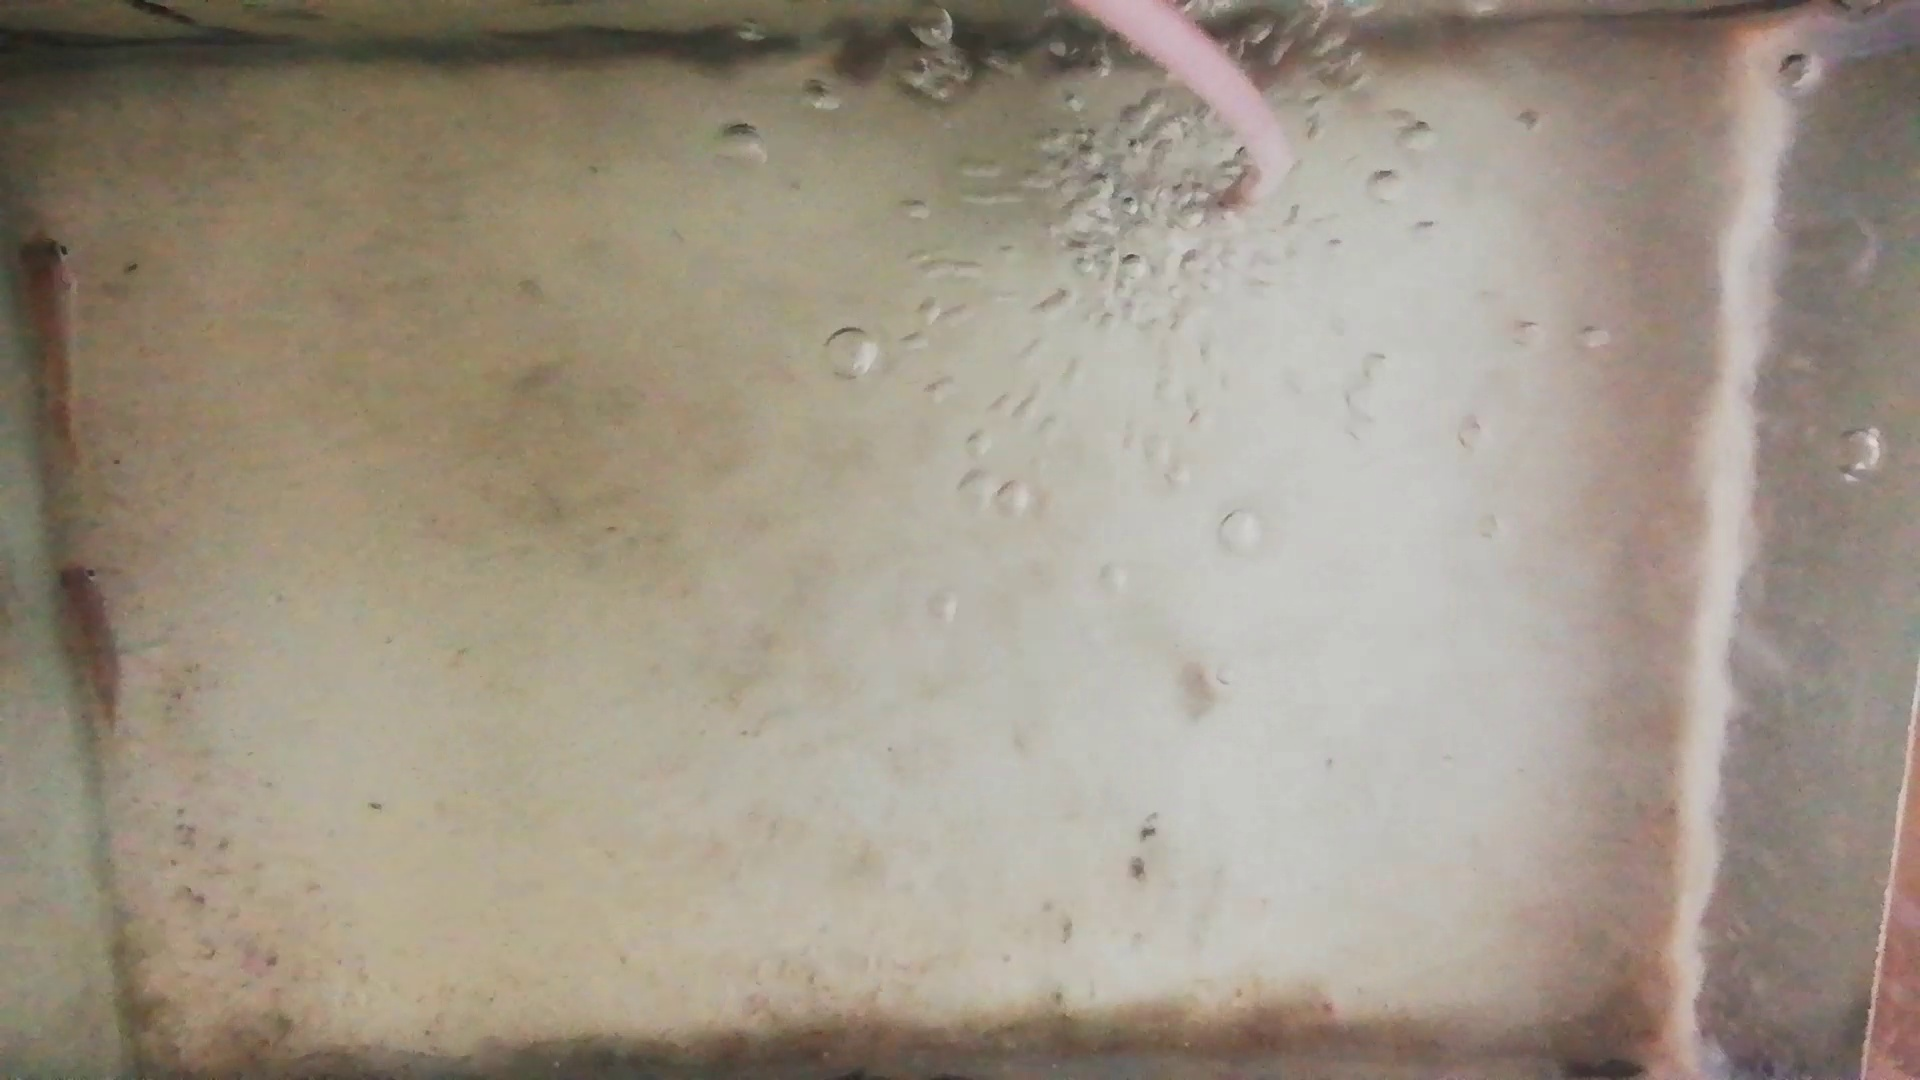fish: (21, 233, 75, 451), (55, 563, 120, 721)
